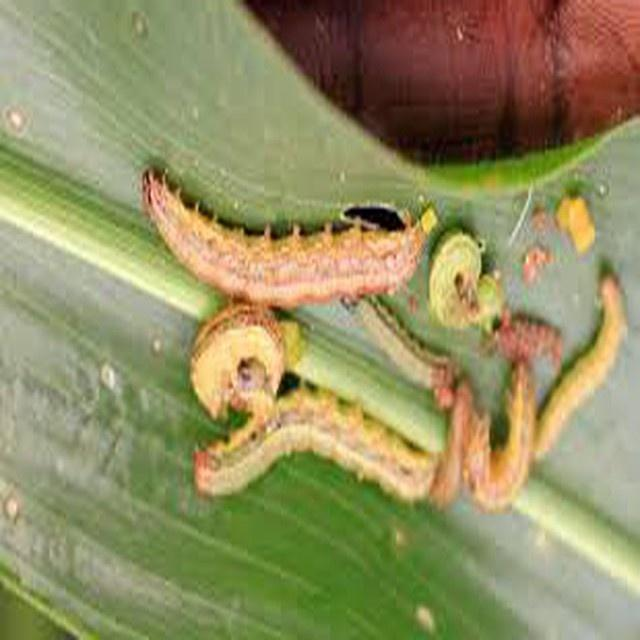gusano_cogollero: (144, 175, 432, 307), (192, 392, 430, 500), (532, 276, 634, 456), (192, 312, 286, 416), (356, 292, 448, 392), (468, 370, 536, 500), (425, 235, 507, 327), (434, 384, 474, 506)
